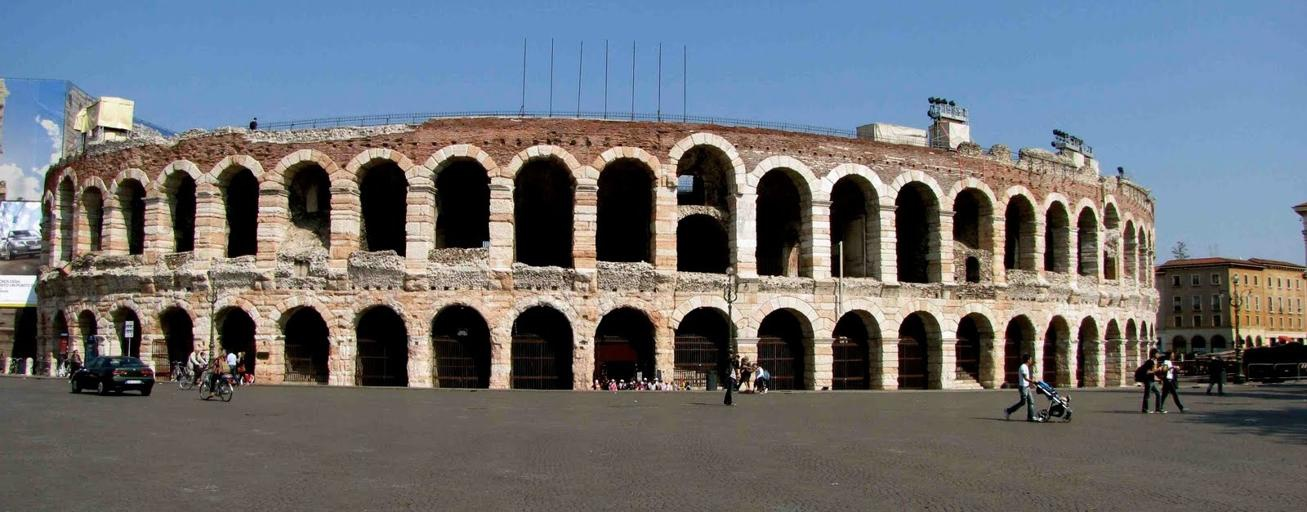non-vehicle: (196, 367, 234, 402), (179, 364, 208, 390), (168, 359, 184, 382)
